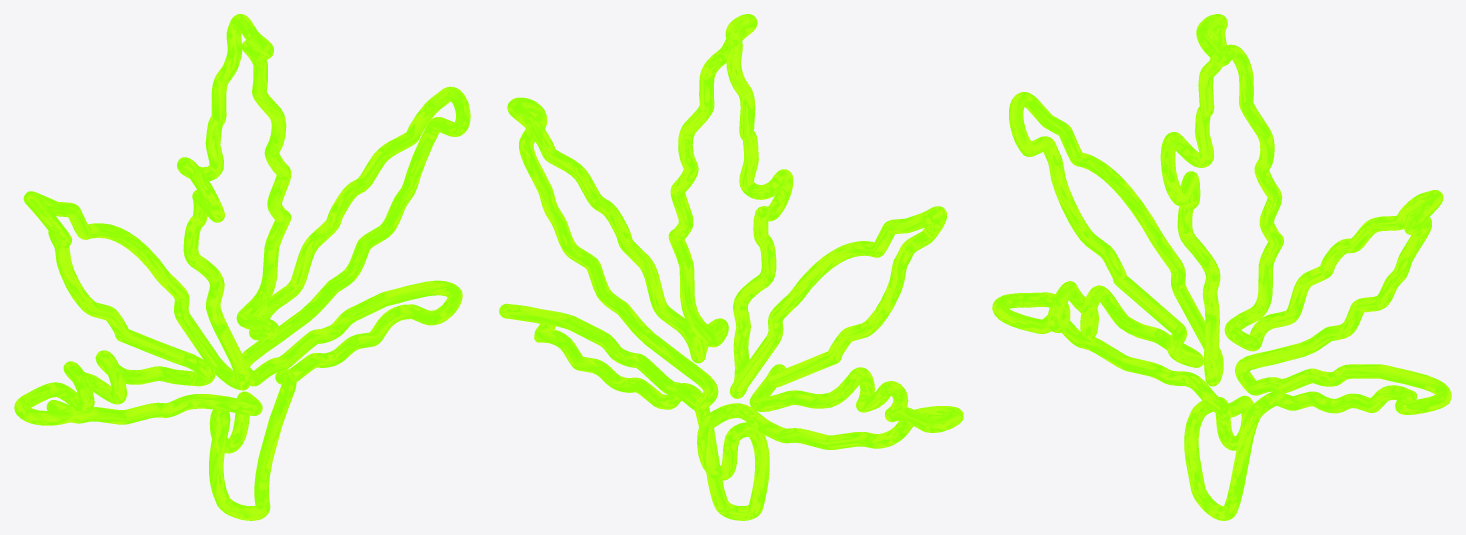
Rendered from Canabis.fbx.
3 views of the same model, side by side, from view 1: azimuth 30°, elevation 25°; view 2: azimuth 150°, elevation 25°; view 3: azimuth 330°, elevation 25° (orthographic).
Visible parts, largest first — view 1: Sweep; view 2: Sweep; view 3: Sweep.
Part boxes in pixels (x1,y1,x2,y2): Sweep: (14,14,470,520); Sweep: (499,14,963,520); Sweep: (992,14,1451,520).
Size of the model in its own units: 38.88 by 41.58 by 5.41.
